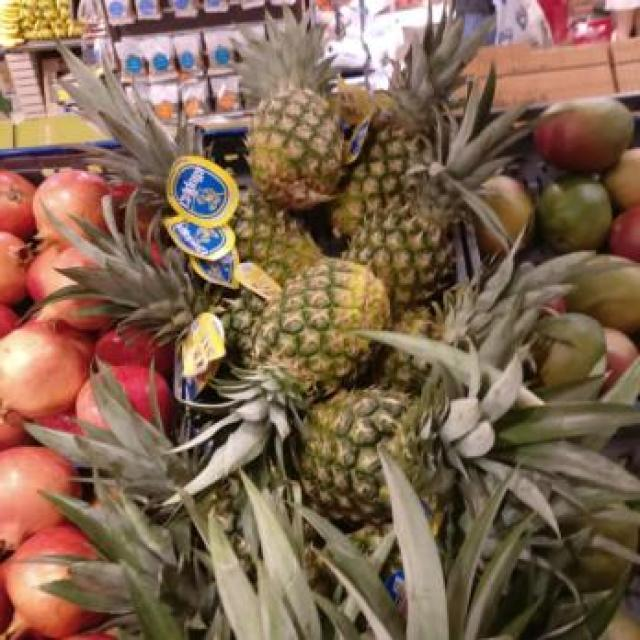pineapple: (301, 339, 639, 539), (188, 258, 390, 492), (348, 72, 529, 311), (331, 20, 481, 236), (239, 9, 346, 209), (70, 60, 202, 209), (231, 186, 321, 283), (181, 169, 200, 198)
